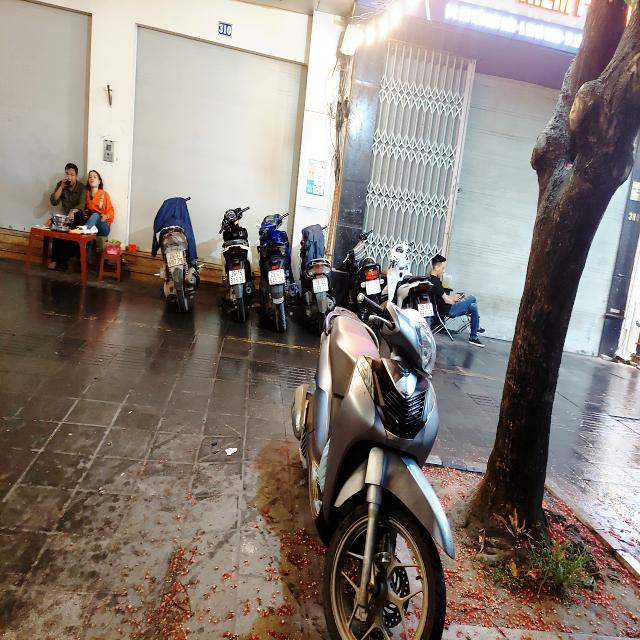license_plate: (166, 250, 186, 268), (229, 269, 246, 286), (269, 270, 286, 286), (313, 278, 330, 294)
